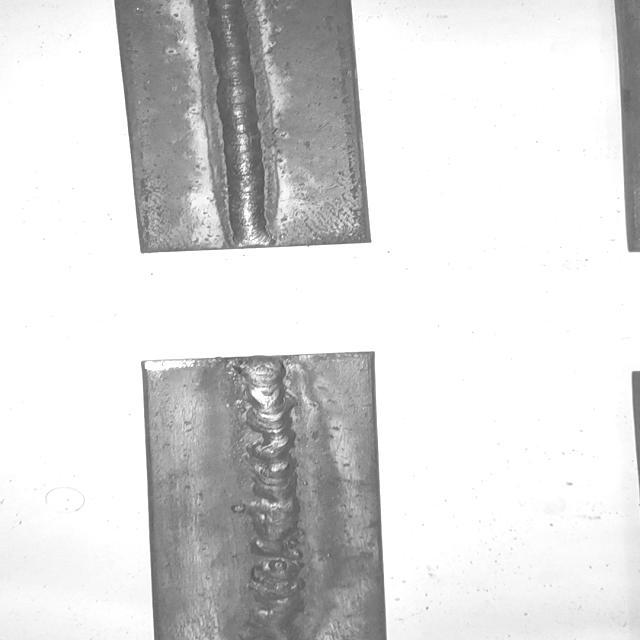Bad Weld: (238, 355, 302, 640)
Defect: (232, 538, 323, 584)
Good Weld: (202, 0, 280, 250)
